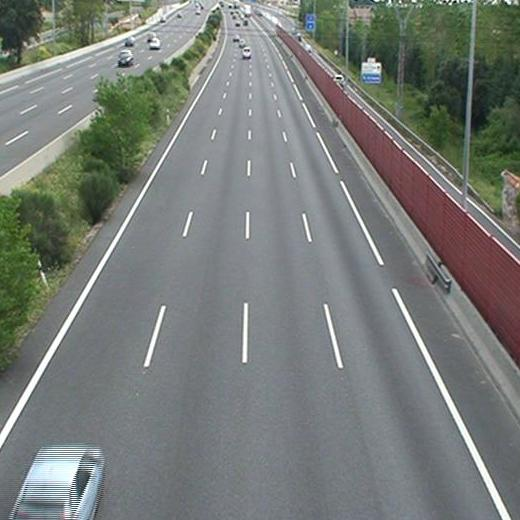car: (7, 446, 103, 520)
van: (243, 47, 250, 58)
